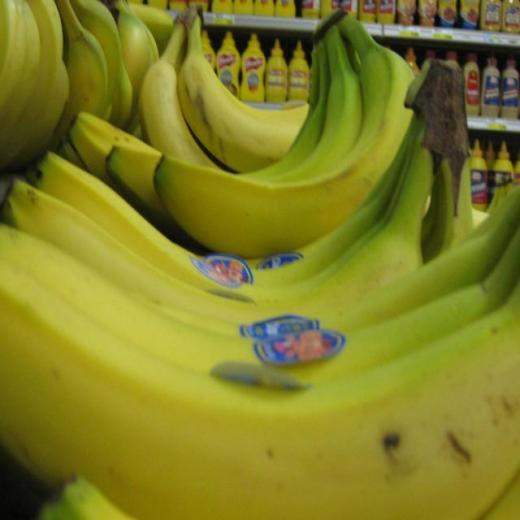Banana: (0, 0, 519, 519), (172, 28, 342, 162)
